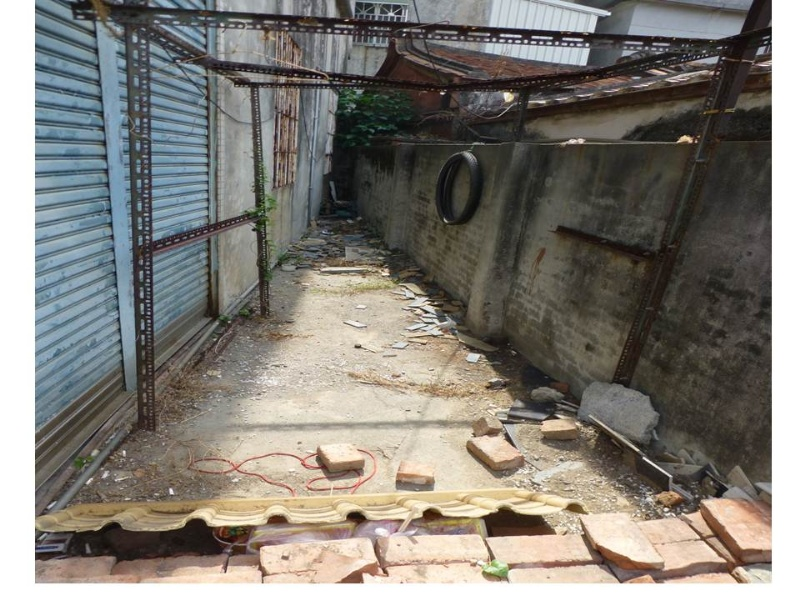tire: (433, 150, 481, 226)
